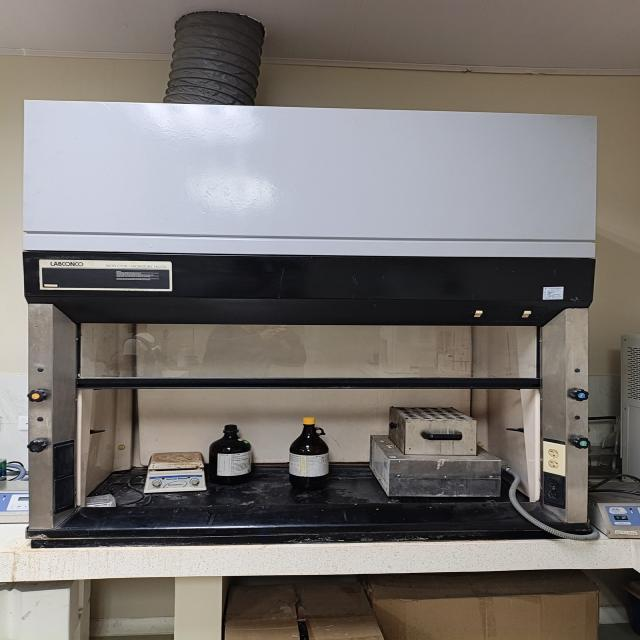Campana de Extraccion de Gases de Laboratorio: (23, 100, 597, 545)
